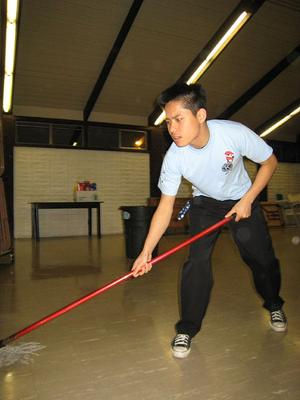person: (132, 83, 288, 359)
